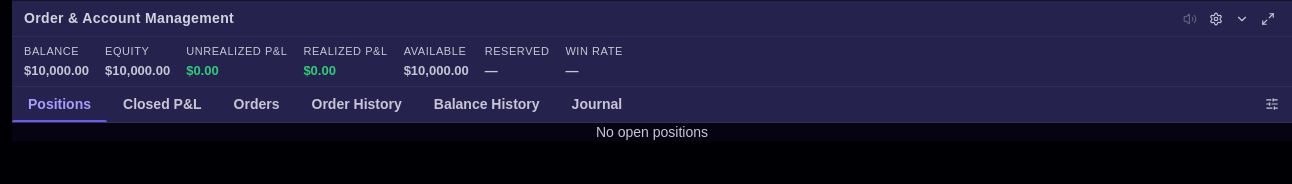
Section 4.8–4.11 — Journal tab › 4.8: shows "No journal entries yet" when journal is empty
The width and height of the screenshot is (1292, 184).
Click the button "journal" at [597, 104], box [556,87,638,122]
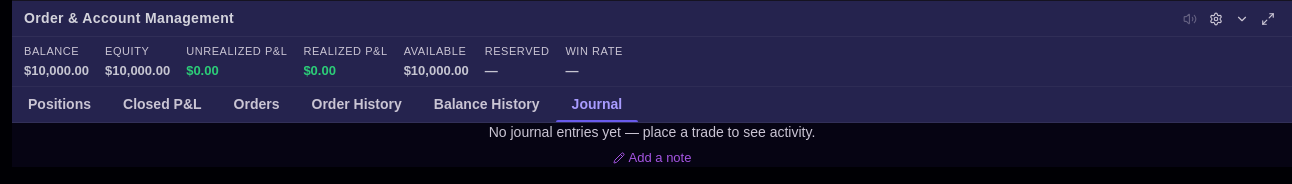
Expected: the text "No journal entries yet — place a trade to see activity." is shown, [489,123,815,141]
